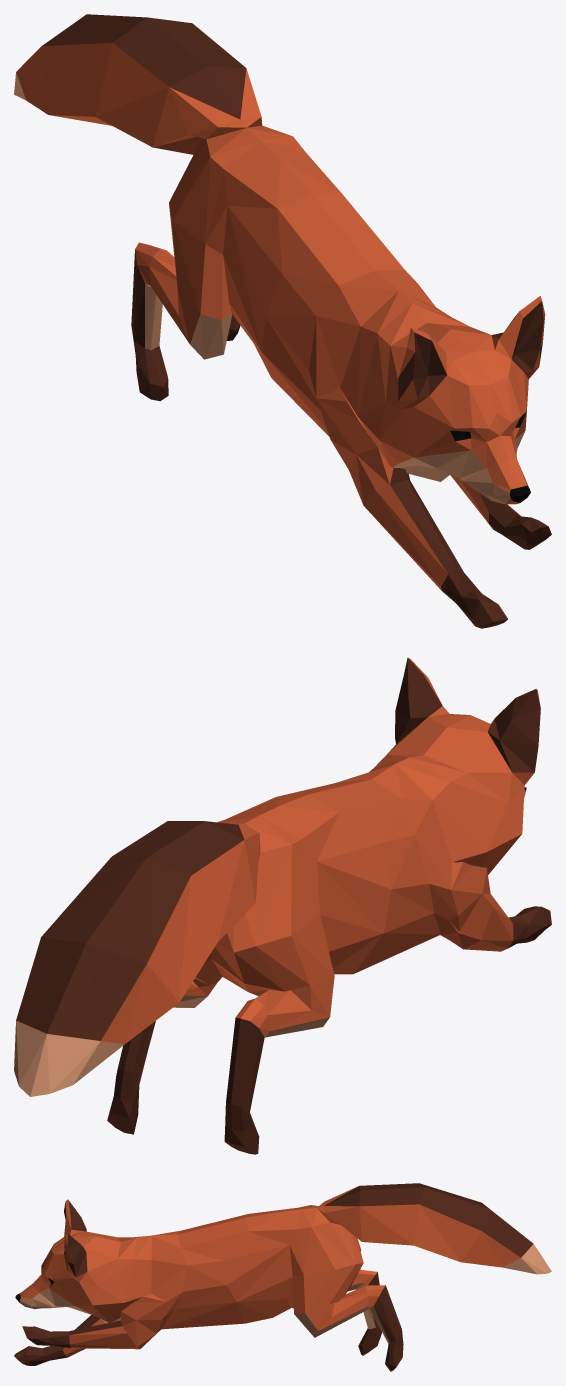
File: fox.glb
The picture shows the model from 3 angles, top to bottom: view 1: azimuth 30°, elevation 25°; view 2: azimuth 150°, elevation 25°; view 3: azimuth 270°, elevation 25°; orthographic projection. The views are drawn at different scales.
Parts seen in each view (by area): view 1: foxRun_A; view 2: foxRun_A; view 3: foxRun_A.
Part boxes in pixels (x1=…): foxRun_A: x1=14, y1=14, x2=551, y2=628; foxRun_A: x1=14, y1=657, x2=551, y2=1154; foxRun_A: x1=14, y1=1183, x2=551, y2=1371.
Size of the model in its own units: 19.37 by 40.56 by 107.
